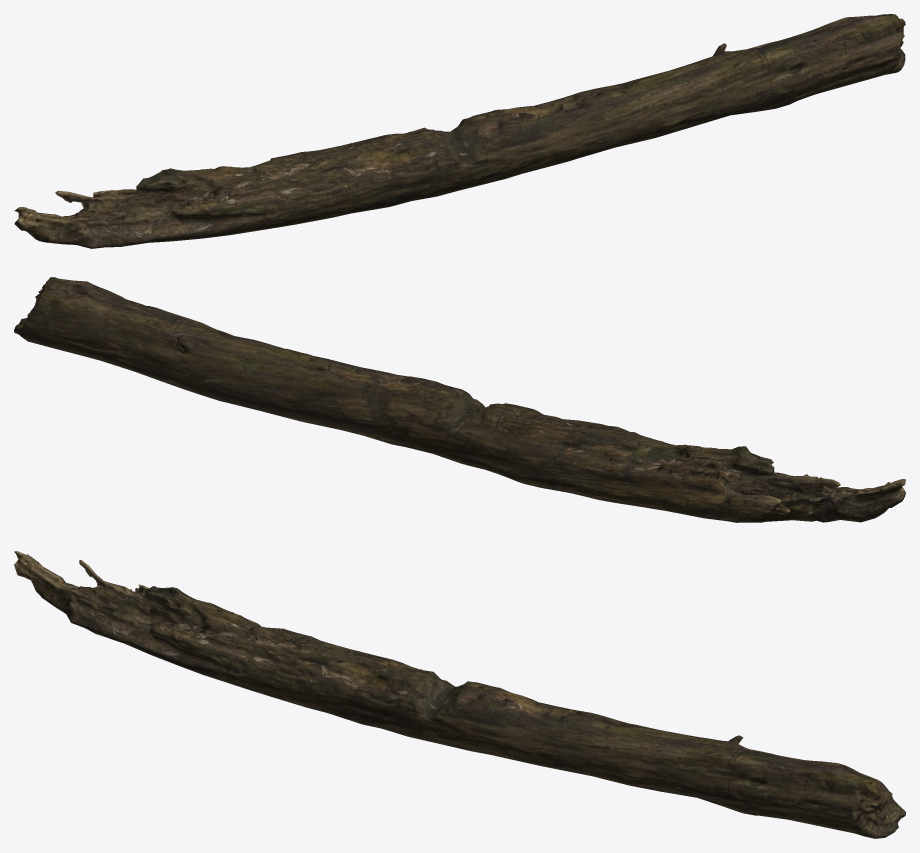
File: dead_tree_trunk.glb
The picture shows the model from 3 angles, top to bottom: view 1: azimuth 30°, elevation 25°; view 2: azimuth 150°, elevation 25°; view 3: azimuth 330°, elevation 25°; orthographic projection.
Parts seen in each view (by area): view 1: dead_tree_trunk; view 2: dead_tree_trunk; view 3: dead_tree_trunk.
Part boxes in pixels (x1,y1,x2,y2): dead_tree_trunk: [14, 14, 905, 248]; dead_tree_trunk: [14, 277, 905, 522]; dead_tree_trunk: [14, 551, 905, 838].
Bounding box in the file's own units: 3.05 × 0.2874 × 0.2767.
1 material, 1 textured.
